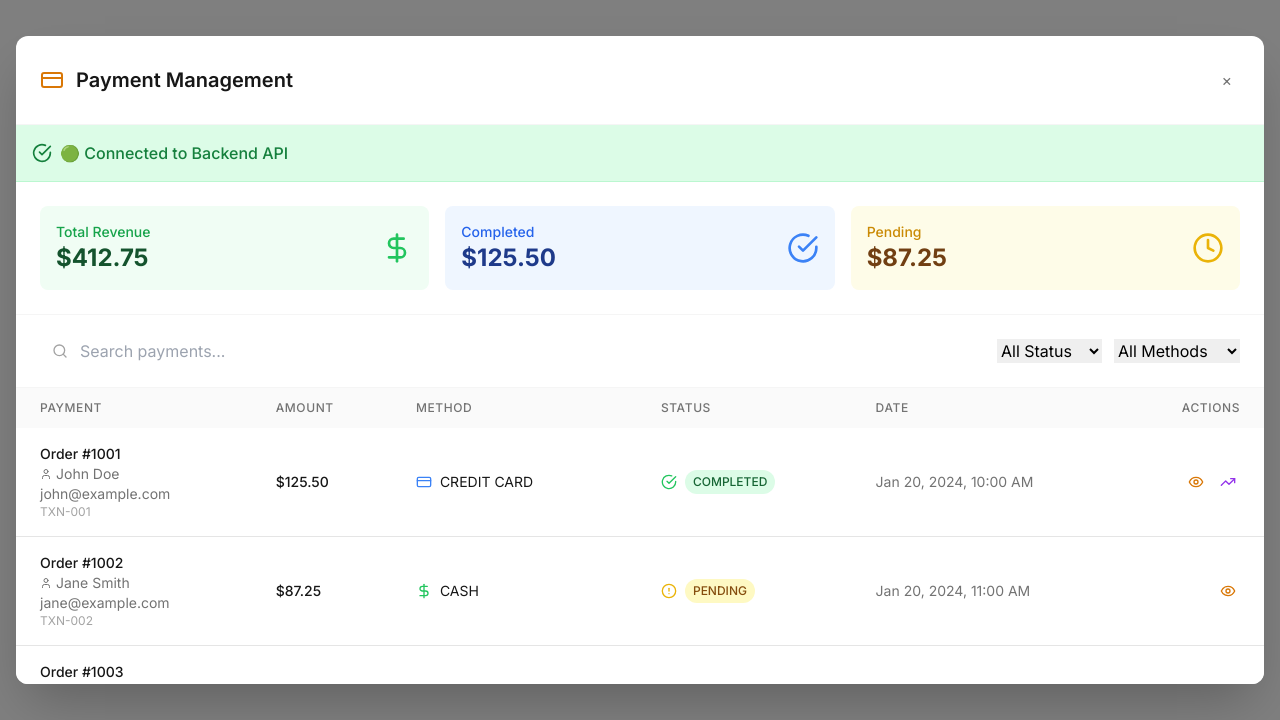
Test: PaymentManagementPanel (F106) › Filtering › should filter payments by status
Select "Completed" in the dropdown named "filter by payment status" at (1050, 351), box [997,339,1102,363]
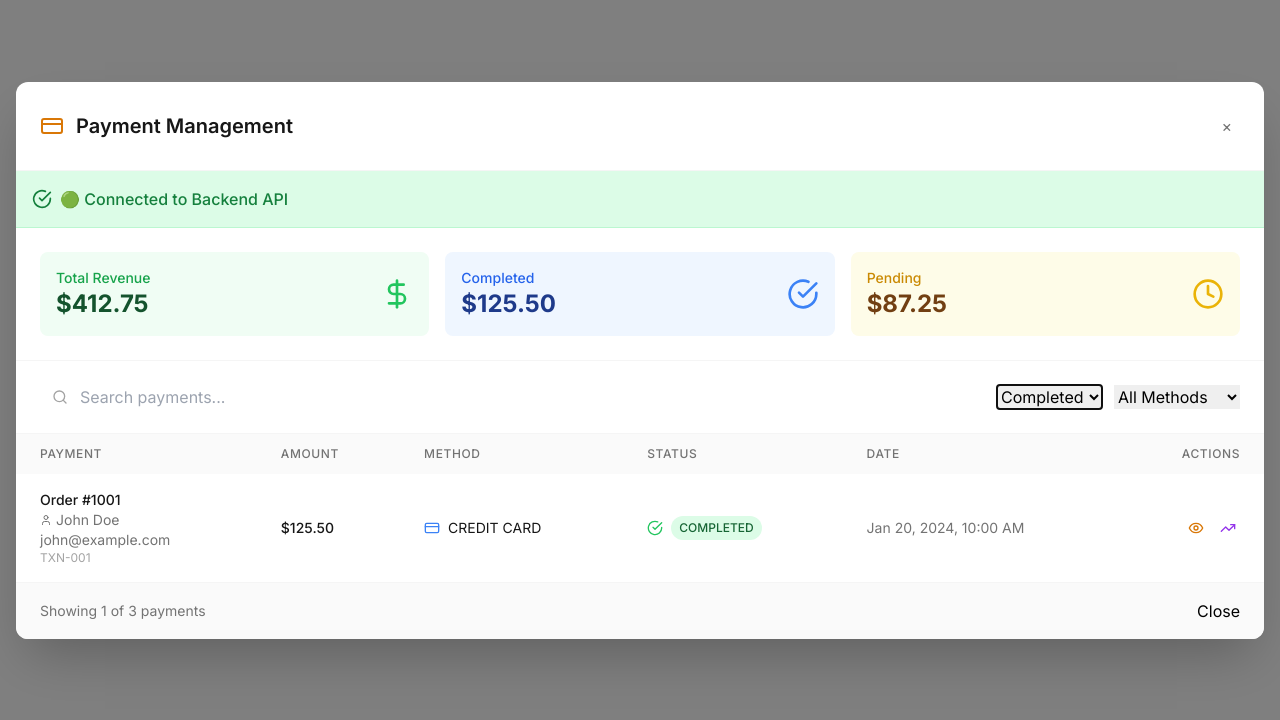
expect the text "john@example.com" is shown: met, box [40,530,170,548]
expect the text "jane@example.com" is gone: met
